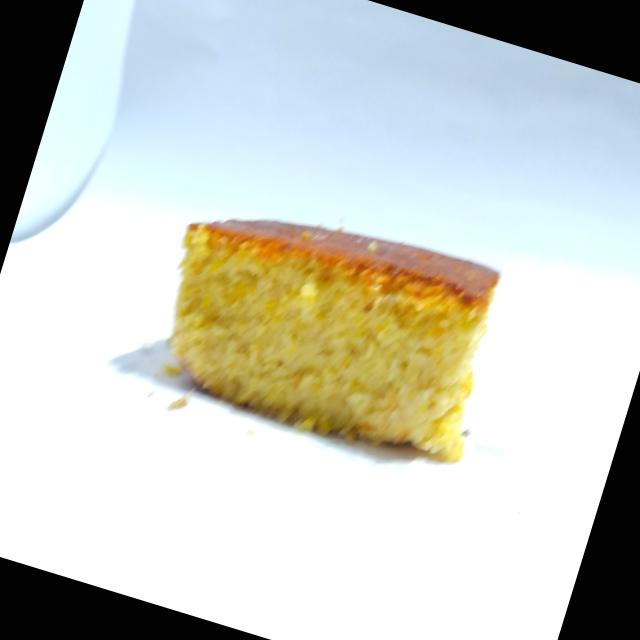Chipa_Guazu: (116, 147, 544, 501)
